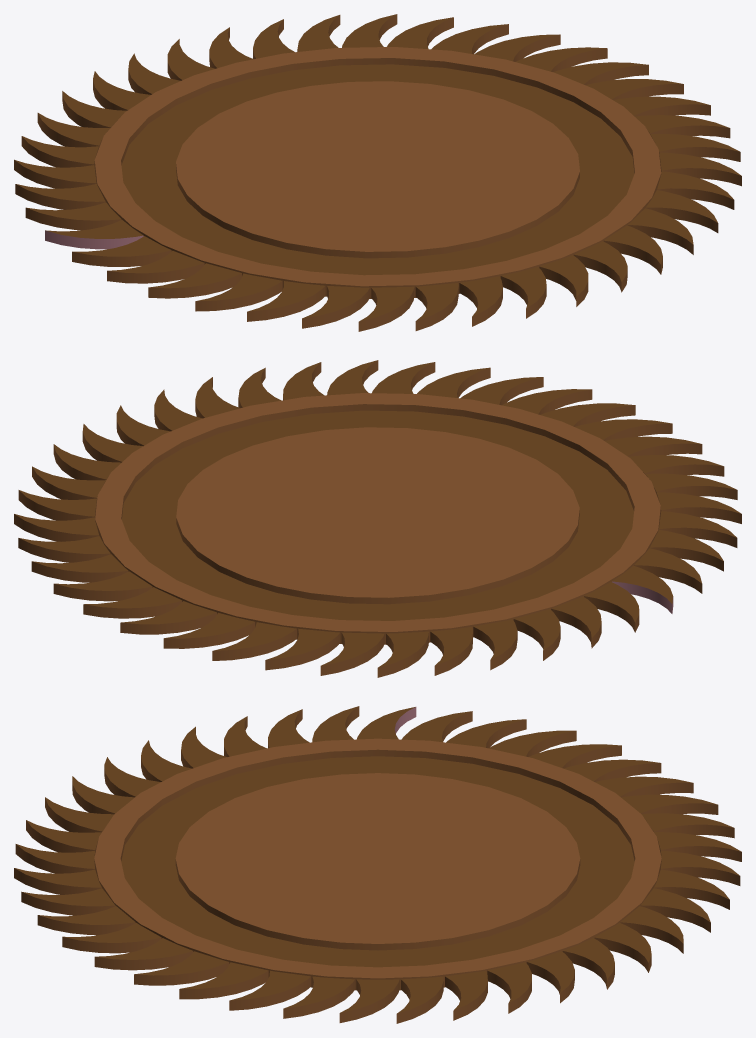
Rendered from Blade.FBX.
3 renders of one model, top to bottom at view 1: azimuth 30°, elevation 25°; view 2: azimuth 150°, elevation 25°; view 3: azimuth 270°, elevation 25°, orthographic.
Visible parts, largest first — view 1: blade; view 2: blade; view 3: blade.
Part boxes in pixels (box(x1,y1,x2,y2)): blade: box(14, 14, 741, 331); blade: box(14, 360, 741, 677); blade: box(14, 706, 741, 1023).
Size of the model in its own units: 513 by 10 by 513.
